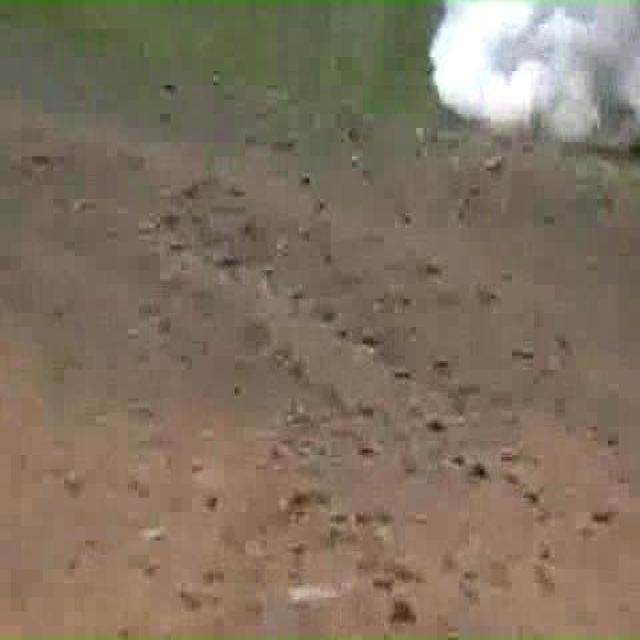Smoke: (427, 0, 640, 155)
